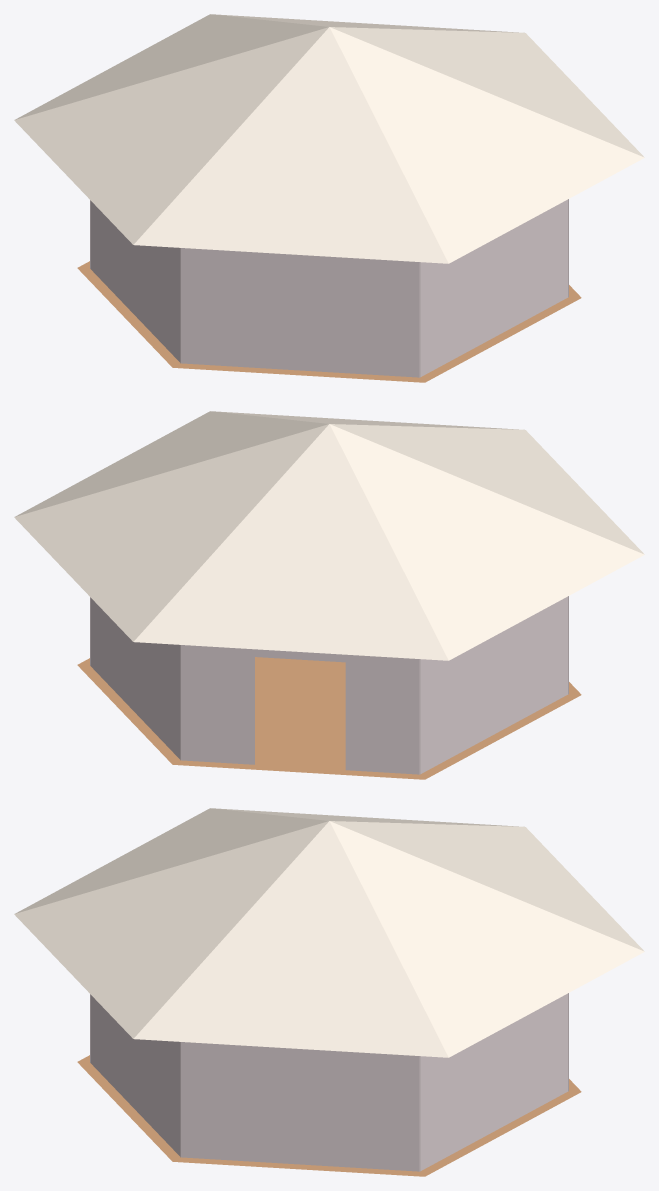
Rendered from zon_room_art_raw.glb.
3 views of the same model, one above another, from view 1: azimuth 30°, elevation 25°; view 2: azimuth 150°, elevation 25°; view 3: azimuth 270°, elevation 25° (orthographic).
Visible parts, largest first — view 1: SM_zon_room_art_room_ceiling_x0_z0_raw, SM_zon_room_art_room_paper_x0_z0_raw, SM_zon_room_art_room_floor_x0_z0_raw; view 2: SM_zon_room_art_room_ceiling_x0_z0_raw, SM_zon_room_art_room_paper_x0_z0_raw, SM_zon_room_art_room_floor_x0_z0_raw; view 3: SM_zon_room_art_room_ceiling_x0_z0_raw, SM_zon_room_art_room_paper_x0_z0_raw, SM_zon_room_art_room_floor_x0_z0_raw.
Part boxes in pixels (<box>): SM_zon_room_art_room_ceiling_x0_z0_raw: <box>14,14,644,263</box>; SM_zon_room_art_room_paper_x0_z0_raw: <box>90,199,568,377</box>; SM_zon_room_art_room_floor_x0_z0_raw: <box>77,261,581,382</box>; SM_zon_room_art_room_ceiling_x0_z0_raw: <box>14,411,644,660</box>; SM_zon_room_art_room_paper_x0_z0_raw: <box>90,596,568,774</box>; SM_zon_room_art_room_floor_x0_z0_raw: <box>77,657,581,779</box>; SM_zon_room_art_room_ceiling_x0_z0_raw: <box>14,808,644,1057</box>; SM_zon_room_art_room_paper_x0_z0_raw: <box>90,993,568,1171</box>; SM_zon_room_art_room_floor_x0_z0_raw: <box>77,1055,581,1176</box>.
Size of the model in its own units: 12.29 by 5.9 by 13.12.
